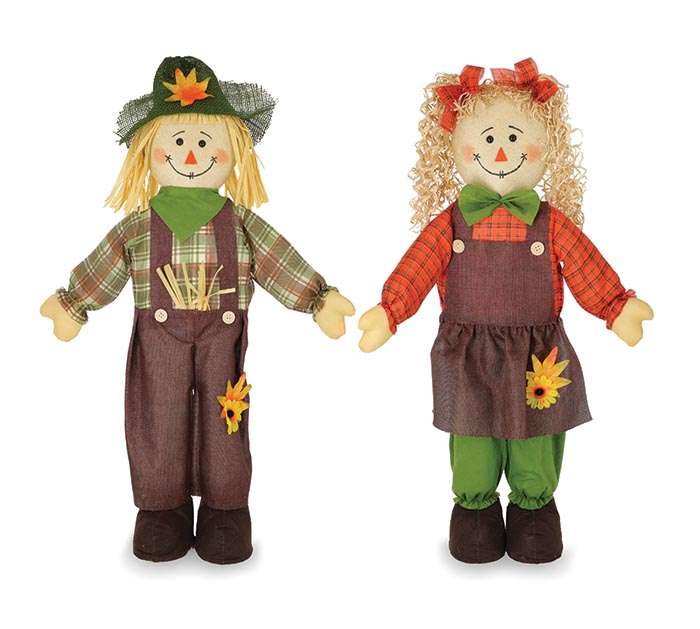person-like: (32, 45, 359, 573), (355, 58, 659, 576)
